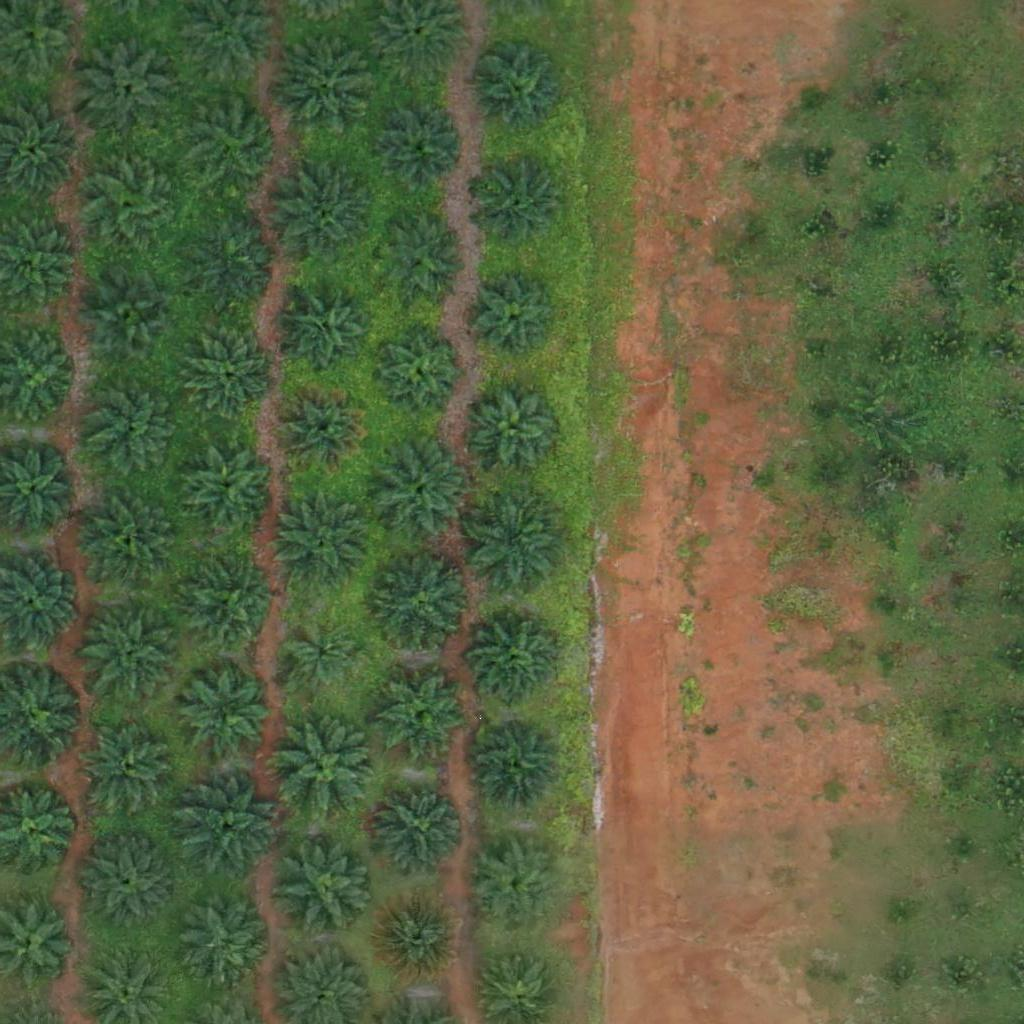Kelapa_Sawit: (273, 35, 373, 136), (274, 168, 374, 269), (468, 39, 568, 140), (278, 719, 378, 820), (178, 439, 278, 540), (179, 555, 279, 656), (177, 779, 277, 880), (84, 375, 184, 476), (81, 492, 181, 593), (80, 601, 180, 702), (79, 718, 179, 819), (77, 834, 177, 935), (276, 840, 376, 941), (77, 33, 177, 133), (186, 94, 286, 194), (185, 214, 285, 314), (463, 489, 563, 589), (368, 441, 468, 541), (370, 555, 470, 655), (273, 493, 373, 593), (84, 156, 172, 244), (87, 275, 175, 363), (374, 104, 462, 192), (476, 160, 564, 248), (472, 274, 560, 362), (473, 384, 561, 472), (380, 671, 468, 759), (374, 781, 462, 869), (187, 331, 275, 419), (374, 892, 462, 980), (378, 216, 465, 304), (283, 288, 370, 376), (473, 621, 560, 709), (474, 718, 561, 806), (473, 844, 560, 932), (375, 327, 462, 415), (279, 385, 366, 473), (182, 667, 269, 755), (189, 895, 276, 983), (285, 621, 360, 697)
